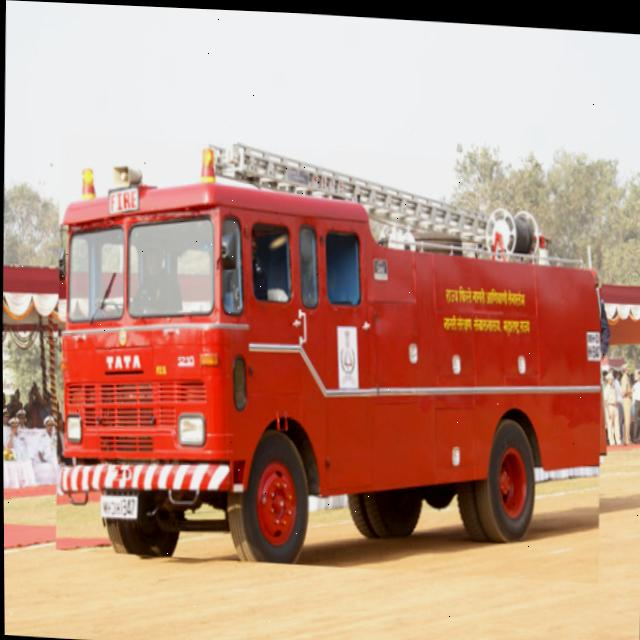Fire Truck: (53, 132, 604, 577)
